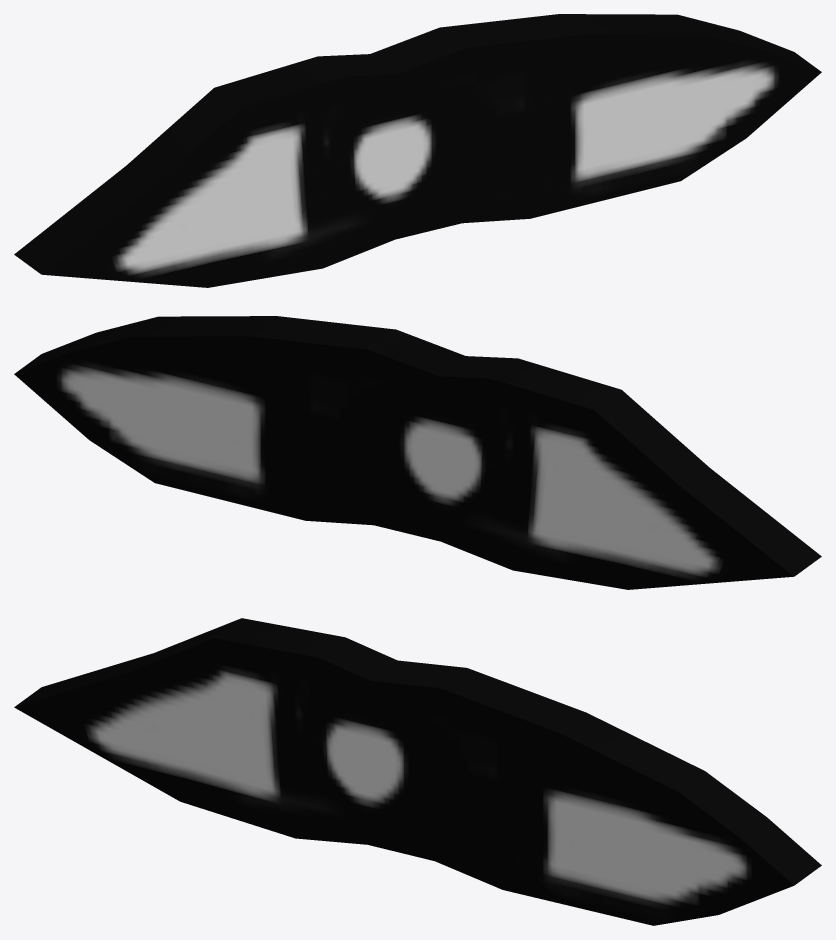
The model's file is elf_eye_R.fbx.
The picture shows the model from 3 angles, top to bottom: view 1: azimuth 30°, elevation 25°; view 2: azimuth 150°, elevation 25°; view 3: azimuth 330°, elevation 25°; orthographic projection.
Parts seen in each view (by area): view 1: elf_eye_R; view 2: elf_eye_R; view 3: elf_eye_R.
Part boxes in pixels (bbox=[...]): elf_eye_R: bbox=[14, 14, 821, 287]; elf_eye_R: bbox=[14, 316, 821, 589]; elf_eye_R: bbox=[14, 618, 821, 925].
Bounding box in the file's own units: 15.69 × 3.6 × 0.9599.
Materials: 1 (1 with a texture image).
